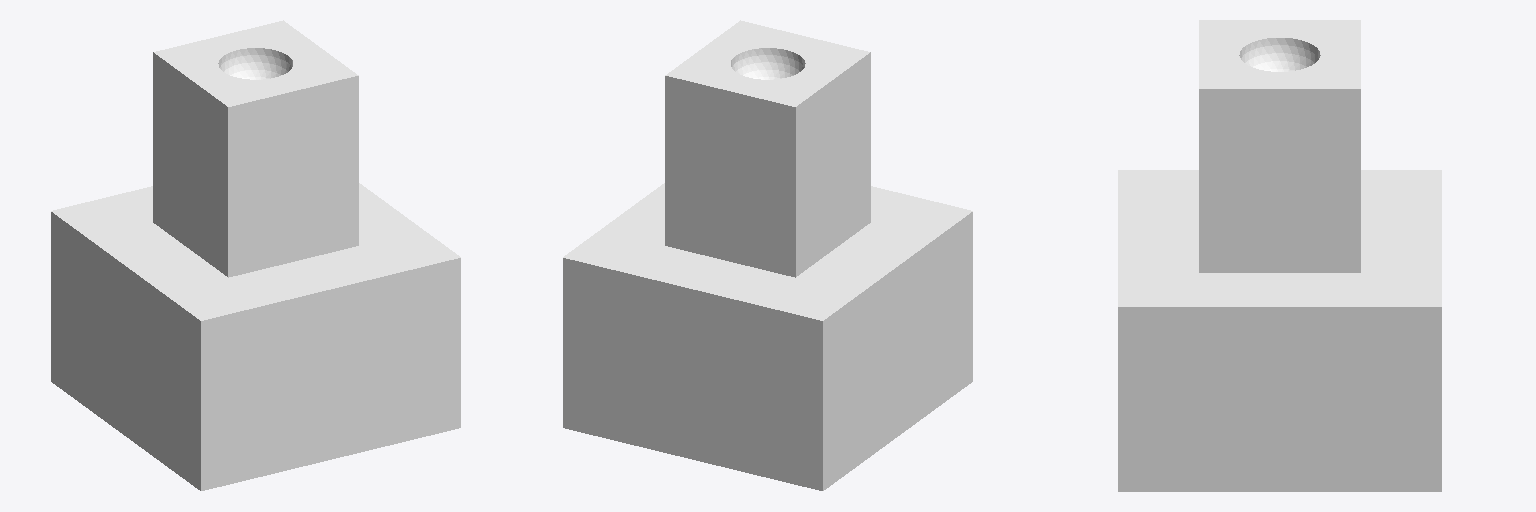
robot.urdf — dot_in:
<robot name="dot_in">
	<link name="_name">
		<visual>
			<origin rpy="0 0 0" xyz="8.275373363110341e-10 -7.365697133521122e-13 -0.007922104052351065" />
			<geometry>
				<mesh filename="dot_in.obj" scale=".001 .001 .001" />
			</geometry>
			<material name="texture">
				<color rgba="1.0 1.0 1.0 1.0" />
			</material>
		</visual>
		<collision>
			<geometry>
				<mesh filename="dot_in_vhacd.obj" scale=".001 .001 .001" />
			</geometry>
		<origin rpy="0 0 0" xyz="8.275373363110341e-10 -7.365697133521122e-13 -0.007922104052351065" /></collision>
		<inertial>
			<mass value="1.0" />
			<inertia ixx="1.0" ixy="0.0" ixz="0.0" iyy="1.0" iyz="0.0" izz="1.0" />
		</inertial>
	</link>
</robot>

--- Render facts (derived) ---
Views: 3 orthographic renders of the robot side by side, from view 1: azimuth 30°, elevation 25°; view 2: azimuth 150°, elevation 25°; view 3: azimuth 270°, elevation 25°.
Model dot_in with 1 links and 0 joints (none), rooted at _name, posed all joints at 0.
Visible links, largest first — view 1: _name; view 2: _name; view 3: _name.
Link boxes in pixels (x1,y1,x2,y2): _name: [51, 20, 460, 490]; _name: [563, 20, 972, 490]; _name: [1118, 20, 1441, 491].
Size in the robot's own frame: 0.016 by 0.016 by 0.02 metres.
1 mesh visuals loaded from 1 distinct referenced files (1 OBJ).